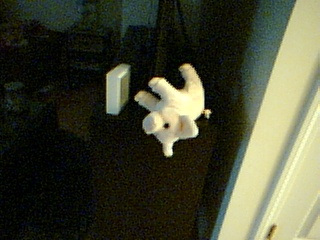piggy: (133, 60, 213, 159)
